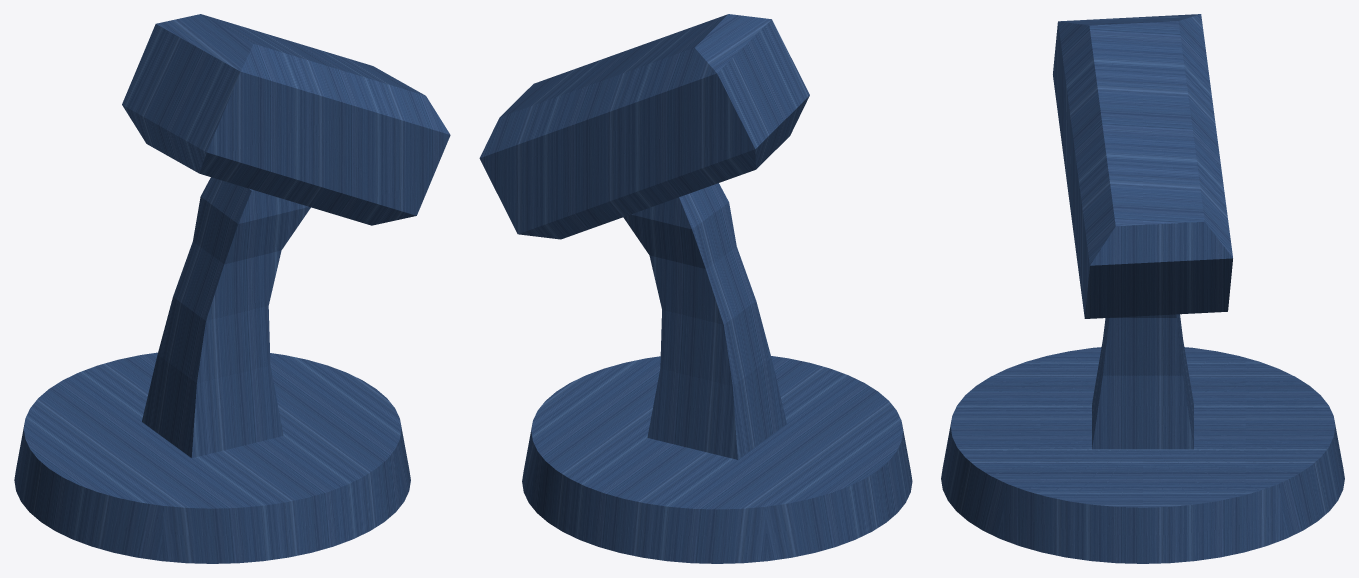
Rendered from ch4-piece-hammer.glb.
3 views of the same model, side by side, from view 1: azimuth 30°, elevation 25°; view 2: azimuth 150°, elevation 25°; view 3: azimuth 270°, elevation 25° (orthographic). The views are drawn at different scales.
Visible parts, largest first — view 1: base, head, handle; view 2: base, head, handle; view 3: base, head, handle.
Boxes of the visible parts, bbox=[...] form: base: bbox=[14, 352, 410, 563]; head: bbox=[122, 14, 450, 225]; handle: bbox=[142, 177, 310, 457]; base: bbox=[522, 356, 912, 563]; head: bbox=[479, 14, 809, 239]; handle: bbox=[623, 183, 786, 459]; base: bbox=[941, 347, 1344, 563]; head: bbox=[1053, 14, 1232, 318]; handle: bbox=[1092, 314, 1193, 449].
Bounding box in the file's own units: 1.41 × 1.58 × 1.26.
Materials: 1 (1 with a texture image).
